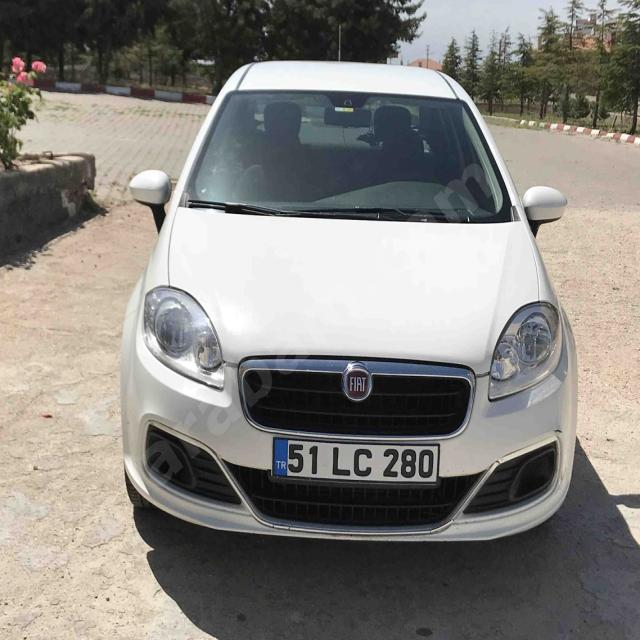license_plate: (272, 437, 440, 483)
